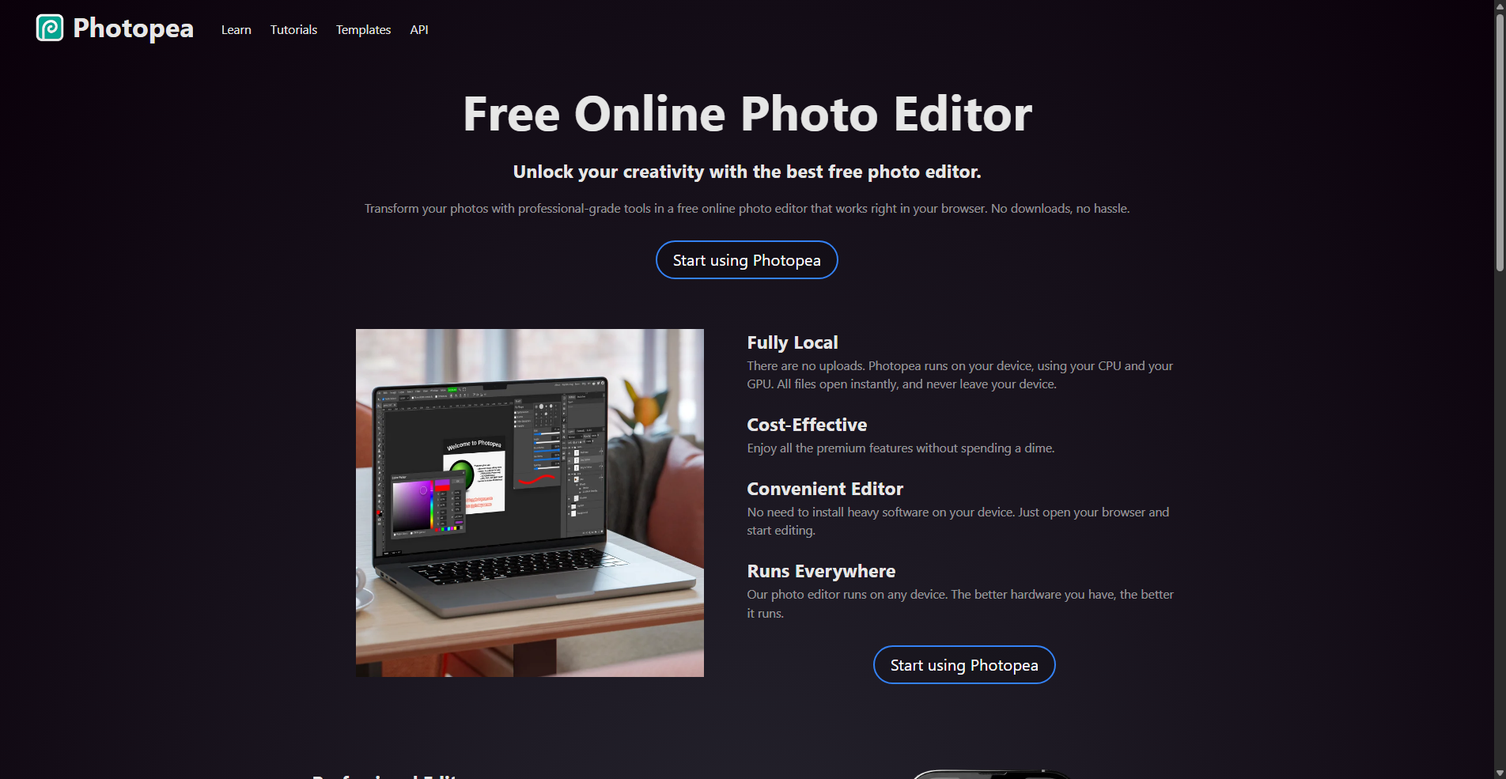button: (655, 240, 839, 279), (873, 645, 1056, 684)
link: (336, 21, 391, 37), (270, 21, 317, 37), (221, 21, 251, 37), (410, 21, 428, 37)
